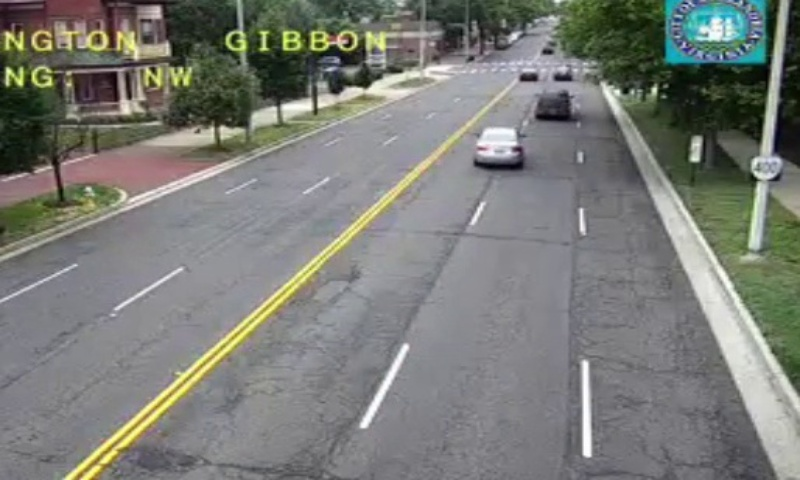car: (474, 127, 524, 165), (537, 89, 572, 119)
